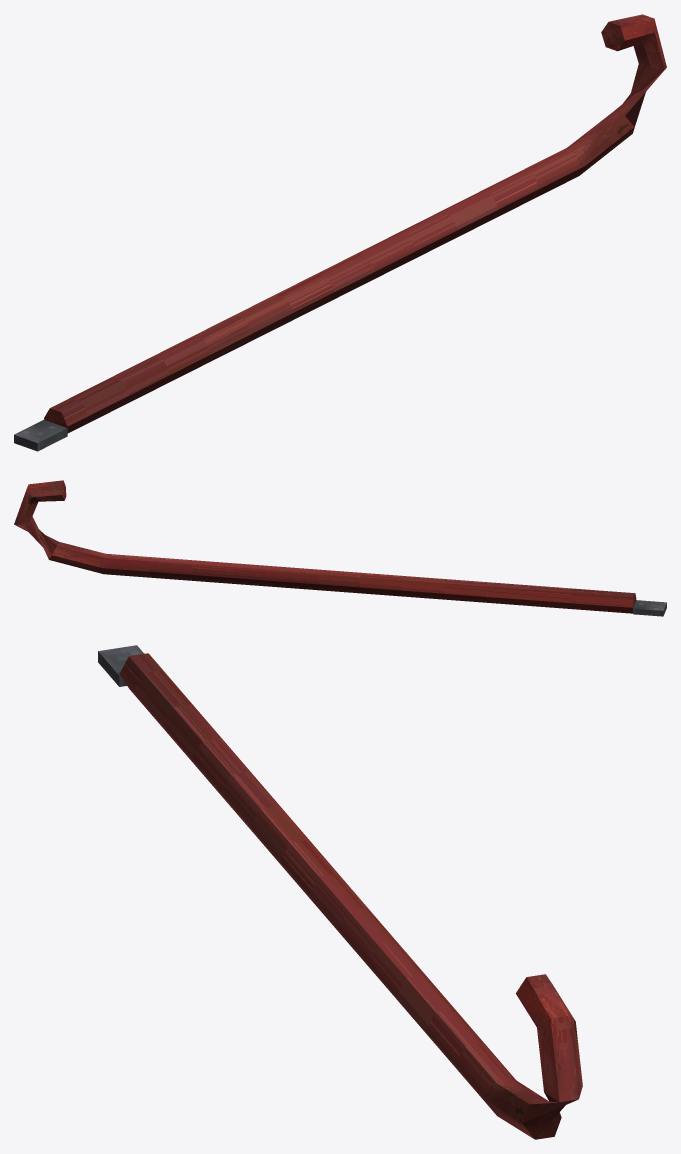
File: crowbar_model.glb
3 renders of one model, top to bottom at view 1: azimuth 30°, elevation 25°; view 2: azimuth 150°, elevation 25°; view 3: azimuth 270°, elevation 25°, orthographic. The views are drawn at different scales.
Parts seen in each view (by area): view 1: crowbar; view 2: crowbar; view 3: crowbar.
Boxes of the visible parts, box(x1,y1,x2,y2) form: crowbar: box(14, 14, 666, 451); crowbar: box(14, 480, 666, 616); crowbar: box(98, 645, 582, 1139).
Size of the model in its own units: 0.6049 by 0.0922 by 0.2343.
1 material, 1 textured.
